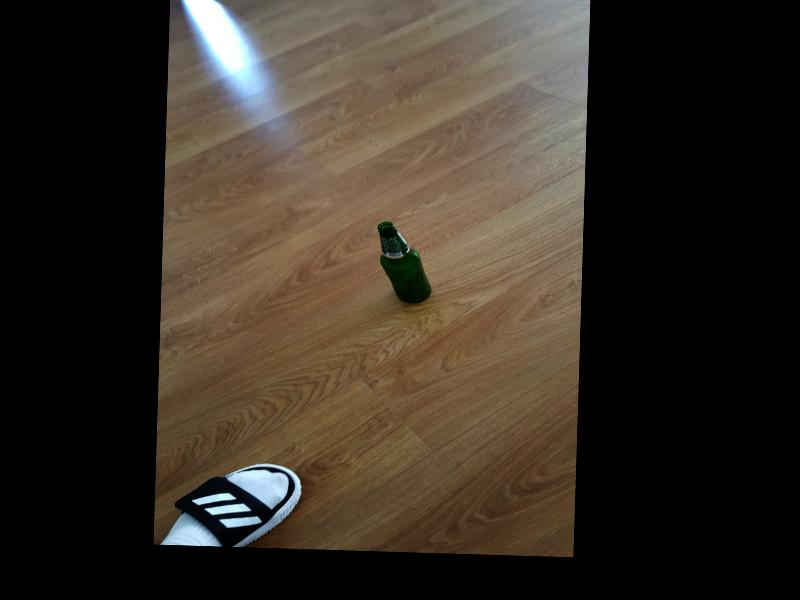Beer: (375, 223, 431, 303)
